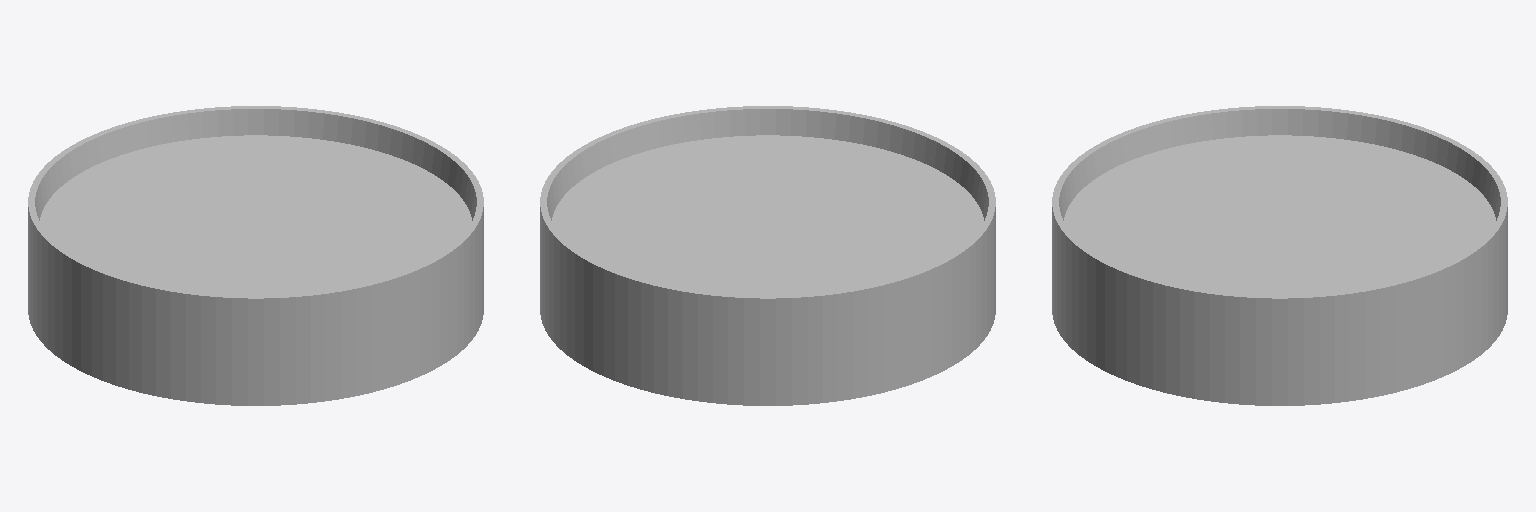
Rendered from gamePiece.obj.
3 renders of one model, left to right at view 1: azimuth 30°, elevation 25°; view 2: azimuth 150°, elevation 25°; view 3: azimuth 270°, elevation 25°, orthographic.
Visible parts, largest first — view 1: gamePiece2_gamePiece; view 2: gamePiece2_gamePiece; view 3: gamePiece2_gamePiece.
Boxes of the visible parts, x1=… form: gamePiece2_gamePiece: x1=28, y1=106, x2=483, y2=405; gamePiece2_gamePiece: x1=540, y1=106, x2=995, y2=405; gamePiece2_gamePiece: x1=1052, y1=106, x2=1507, y2=405.
Bounding box in the file's own units: 0.3292 × 0.0857 × 0.3294.